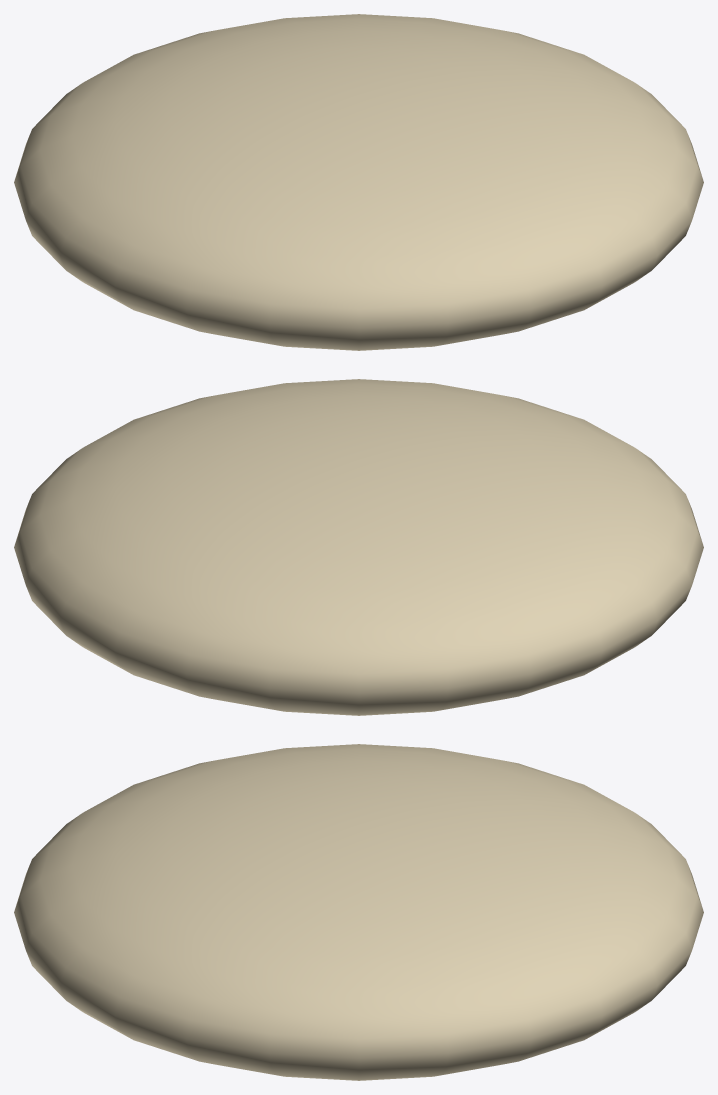
The model's file is galaxy_bulge.glb.
The picture shows the model from 3 angles, top to bottom: view 1: azimuth 30°, elevation 25°; view 2: azimuth 150°, elevation 25°; view 3: azimuth 270°, elevation 25°; orthographic projection.
Parts seen in each view (by area): view 1: galaxy_bulge_textured_mesh; view 2: galaxy_bulge_textured_mesh; view 3: galaxy_bulge_textured_mesh.
Part boxes in pixels (x1,y1,x2,y2): galaxy_bulge_textured_mesh: (14, 14, 703, 350); galaxy_bulge_textured_mesh: (14, 379, 703, 715); galaxy_bulge_textured_mesh: (14, 744, 703, 1080).
Bounding box in the file's own units: 1.62 × 0.44 × 1.62.
Materials: 1 (1 with a texture image).
